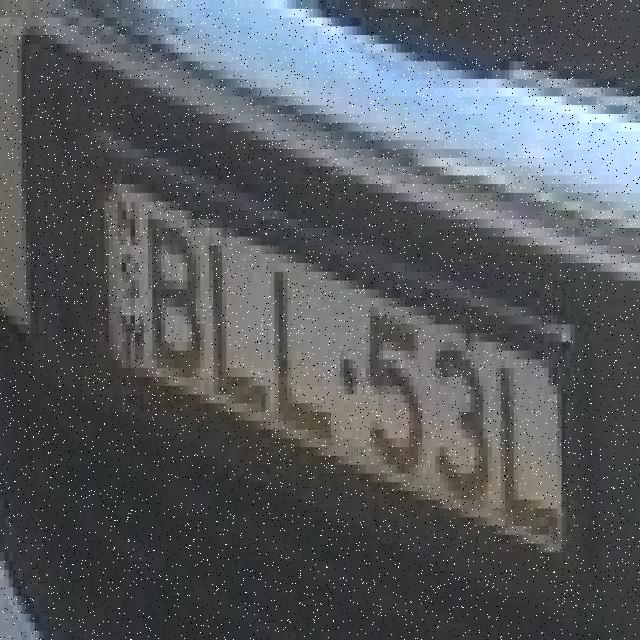licenseplate: (85, 132, 584, 578)
